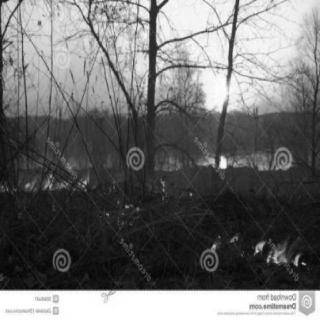Fire: (4, 163, 98, 197)
other: (193, 61, 235, 112), (219, 152, 235, 172)
